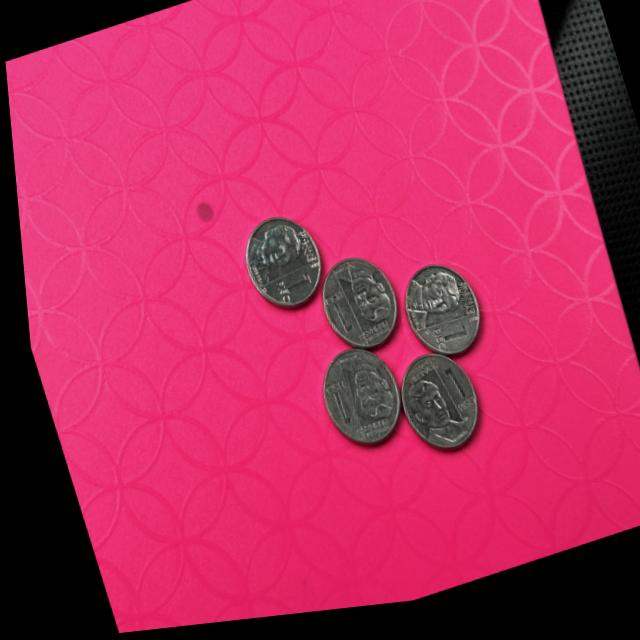1_New_Front: (431, 365, 472, 432), (315, 379, 353, 437), (313, 288, 350, 347), (419, 327, 465, 366), (265, 278, 311, 312)
